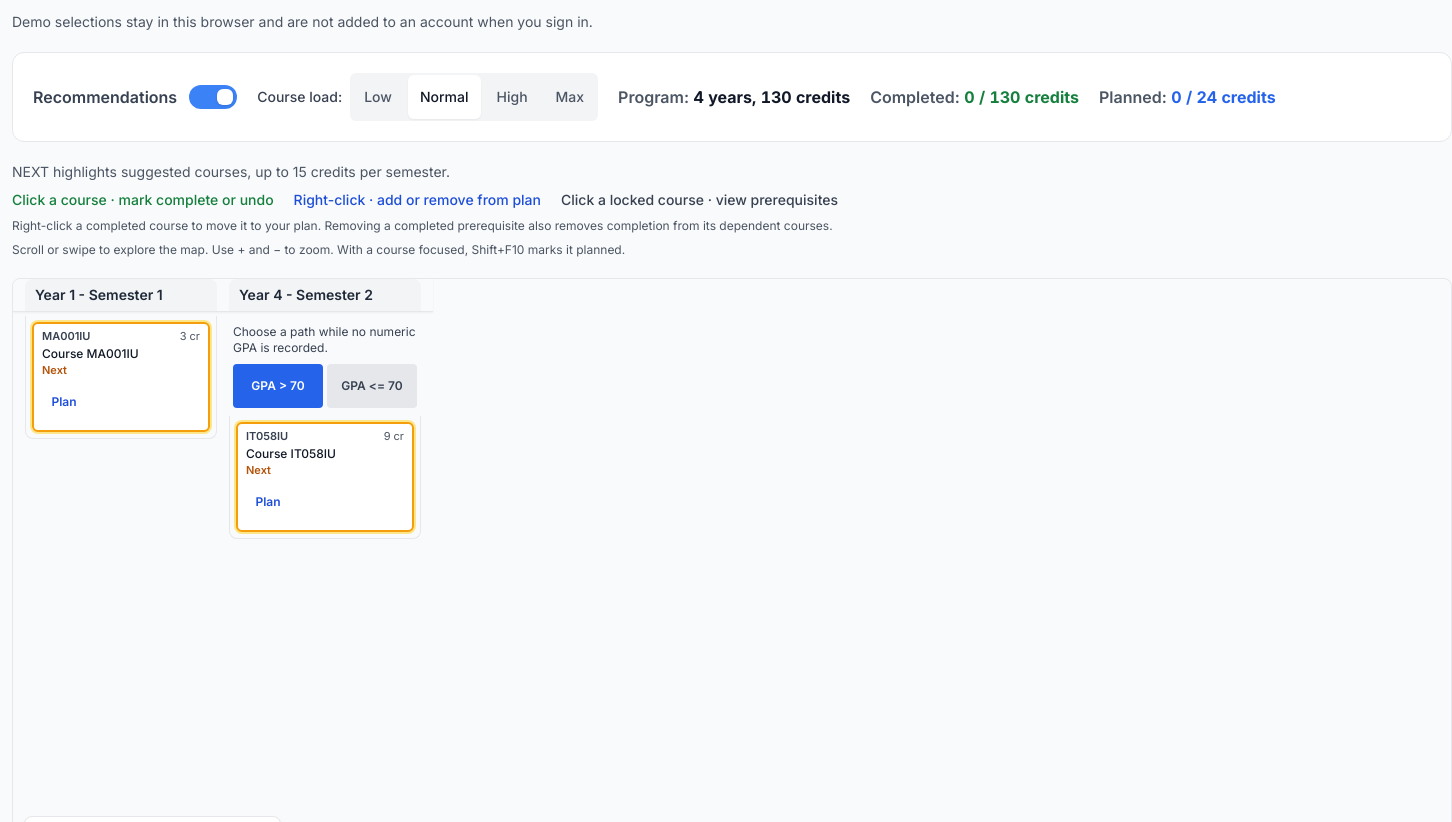
server GPA policy in the curriculum map › keeps guest paths manual and never requests an account GPA
The width and height of the screenshot is (1452, 822).
Expected: the text "IT058IU" is shown, top-left (246, 430), bottom-right (288, 444)
Click the button "GPA <= 70" at coordinates (372, 386), box top-left (327, 364), bottom-right (417, 408)
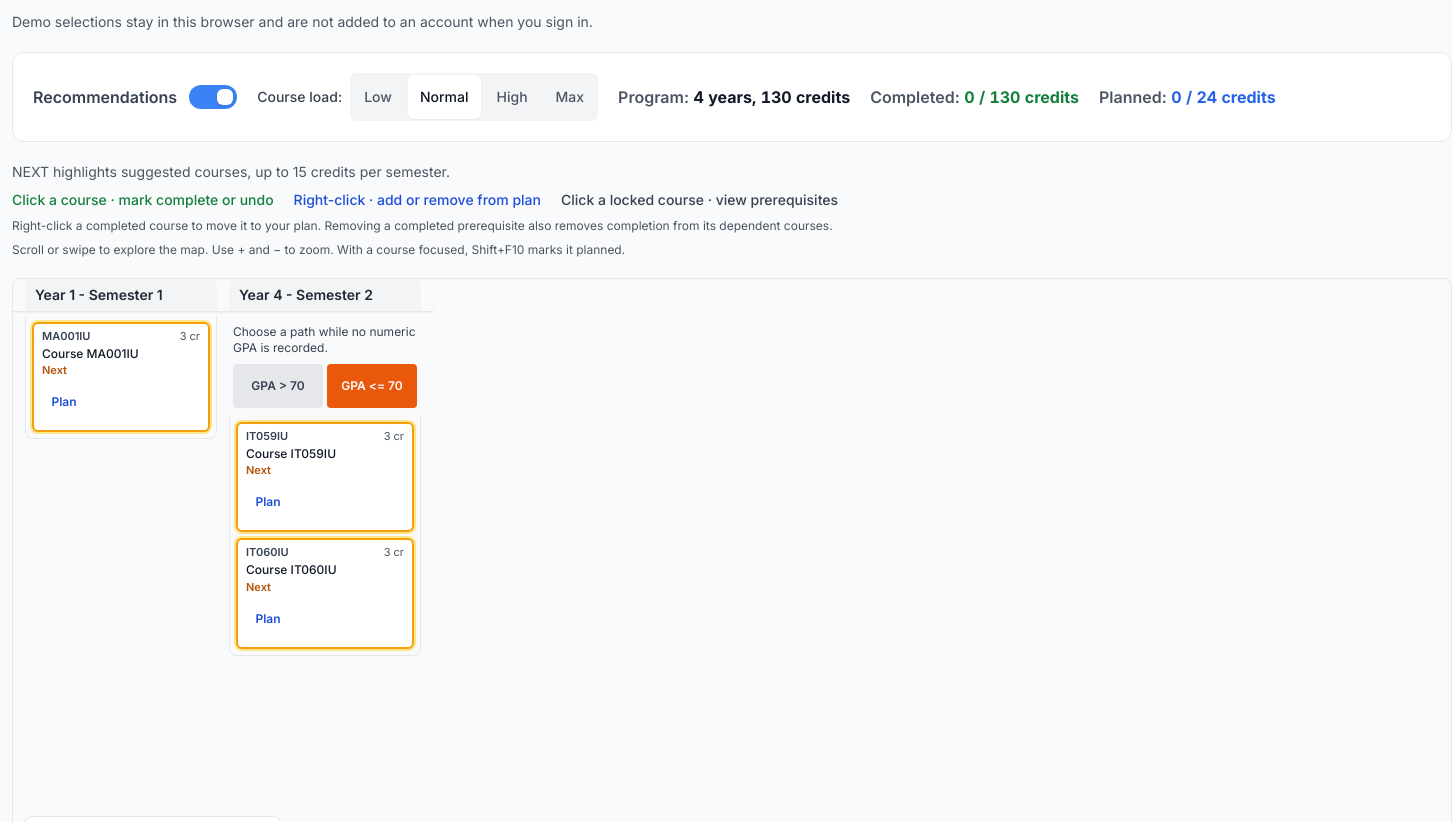
Now the button "IT058IU" is gone
Now the text "IT059IU" is shown, box top-left (246, 430), bottom-right (288, 444)
Now the button "IT059IU 3 cr Course IT059IU Next" is shown, box top-left (246, 430), bottom-right (404, 478)
